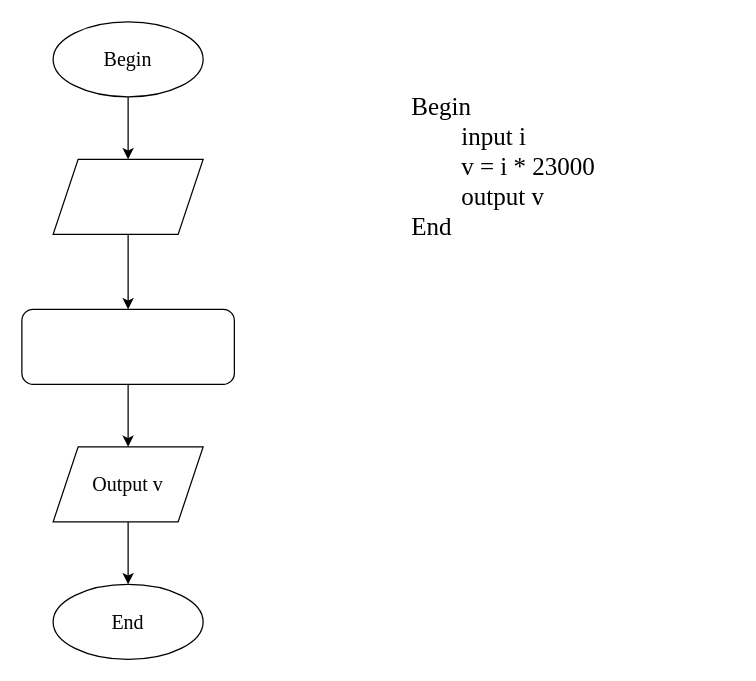
This 756x681 diagram has some shape labels left out. Each missing label, with the centre of its shape:
"Input i" goes at (127,196).
"v = i * 23000" goes at (127,346).
